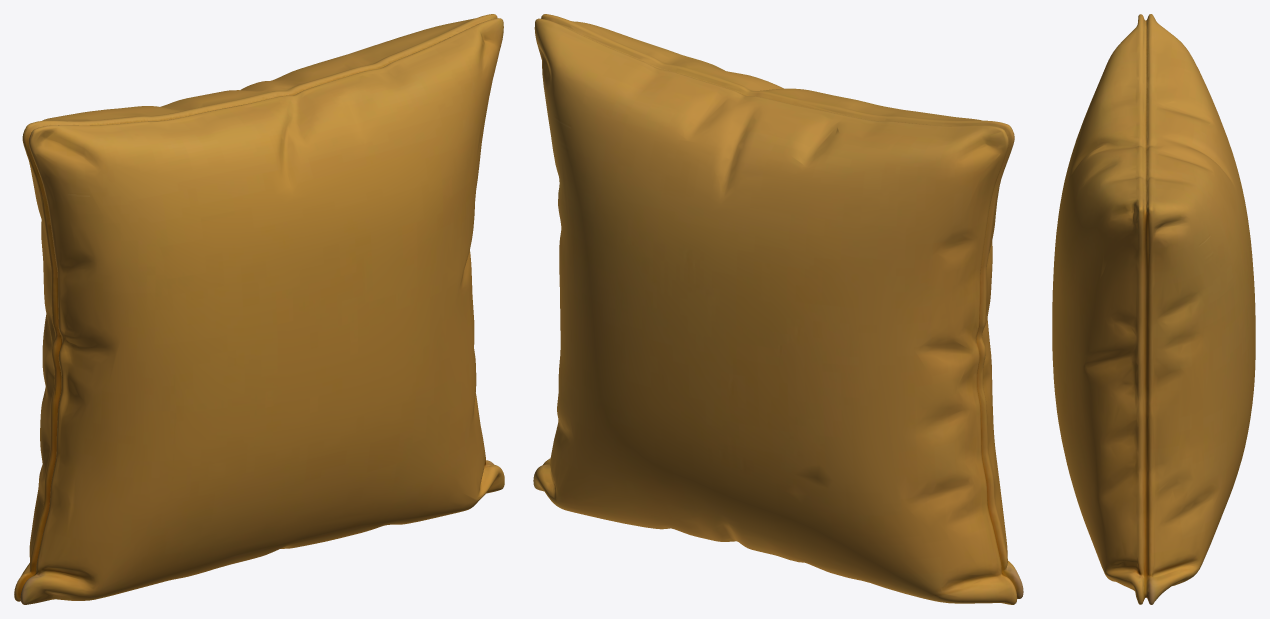
3 views of the same model, side by side, from view 1: azimuth 30°, elevation 25°; view 2: azimuth 150°, elevation 25°; view 3: azimuth 270°, elevation 25° (orthographic). The views are drawn at different scales.
Visible parts, largest first — view 1: material; view 2: material; view 3: material.
Boxes of the visible parts, x1,y1,x2,y2 form: material: [14, 14, 504, 604]; material: [533, 14, 1023, 604]; material: [1052, 14, 1255, 604].
Size of the model in its own units: 0.8808 by 0.8272 by 0.3812.
1 material, 1 textured.
